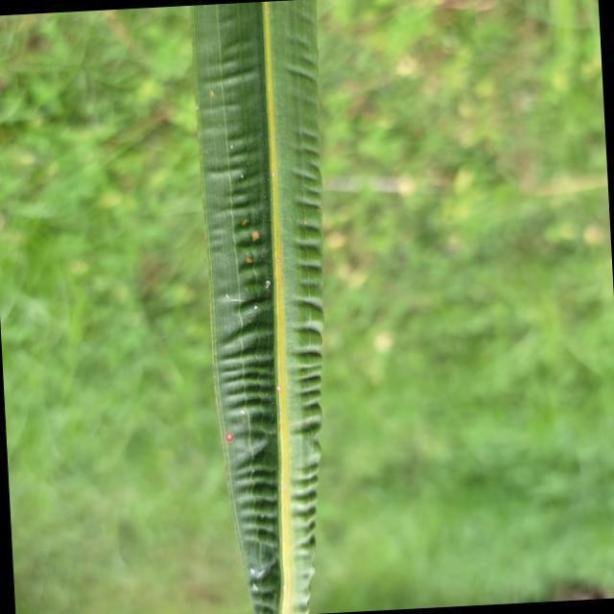Boron: (182, 0, 333, 614)
